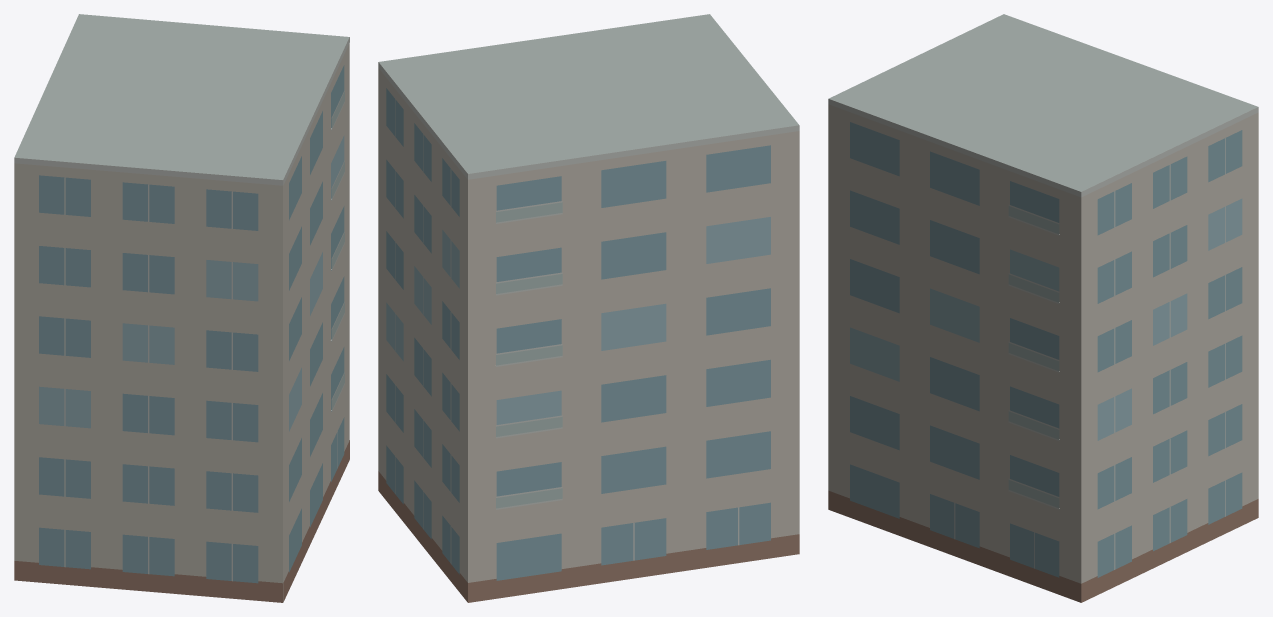
File: survey-upis-32890381.glb
The picture shows the model from 3 angles, left to right: view 1: azimuth 30°, elevation 25°; view 2: azimuth 150°, elevation 25°; view 3: azimuth 270°, elevation 25°; orthographic projection. The views are drawn at different scales.
Parts seen in each view (by area): view 1: survey-upis-32890381.tmp; view 2: survey-upis-32890381.tmp; view 3: survey-upis-32890381.tmp.
Part boxes in pixels (box(x1,y1,x2,y2)): survey-upis-32890381.tmp: box(14, 14, 349, 602); survey-upis-32890381.tmp: box(378, 14, 799, 602); survey-upis-32890381.tmp: box(828, 14, 1258, 602).
Size of the model in its own units: 17.01 by 18.3 by 17.37.
